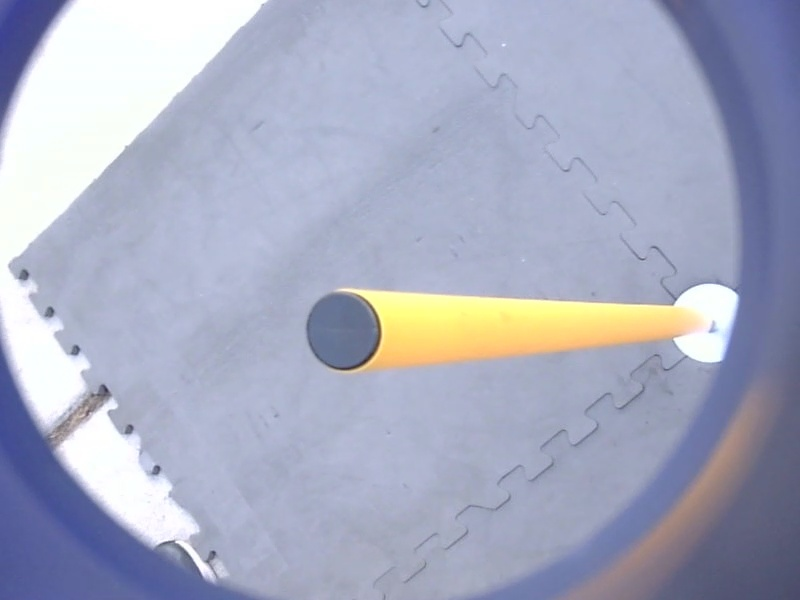tip: (300, 286, 386, 377)
